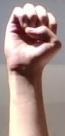E: (0, 1, 65, 75)
